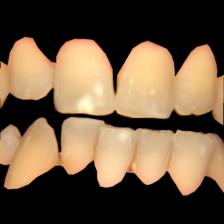cavity: (127, 151, 140, 172), (164, 154, 173, 169), (57, 153, 65, 167), (92, 143, 98, 159)
tooth: (56, 39, 114, 118), (118, 38, 169, 119), (4, 116, 53, 190), (176, 41, 214, 117), (8, 35, 48, 102), (172, 130, 212, 197), (96, 125, 132, 187), (61, 116, 96, 174), (136, 126, 169, 184)
